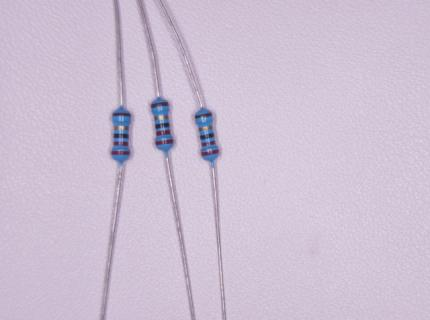Black band: (199, 132, 215, 140), (113, 133, 129, 139), (155, 123, 170, 129)
Brown band: (151, 102, 170, 108), (194, 113, 213, 119), (112, 112, 131, 117)
Gold band: (198, 125, 213, 132), (154, 115, 170, 121), (114, 126, 129, 130)
Red band: (155, 139, 173, 146), (201, 150, 219, 156), (156, 130, 171, 136), (201, 140, 216, 146), (113, 141, 129, 146), (111, 151, 131, 155)
